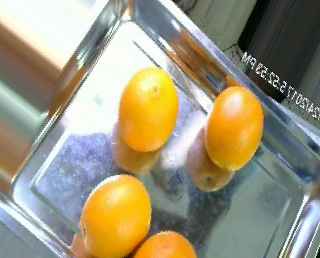Orange: (80, 172, 152, 255), (203, 86, 264, 170), (118, 67, 179, 151)
